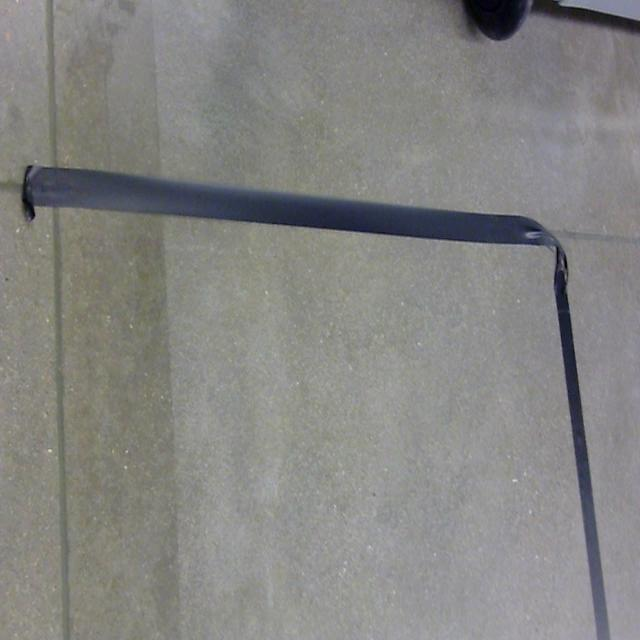tape: (7, 146, 627, 640)
